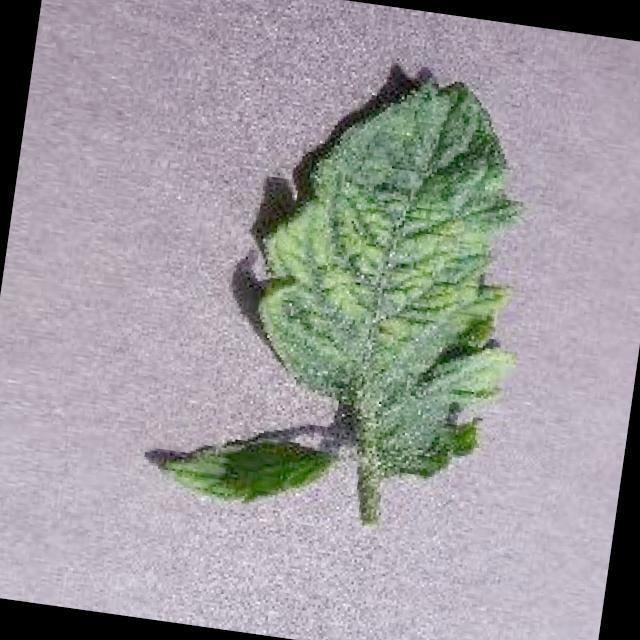Tomato mosaic virus leaf: (234, 58, 556, 495), (148, 418, 328, 516)
